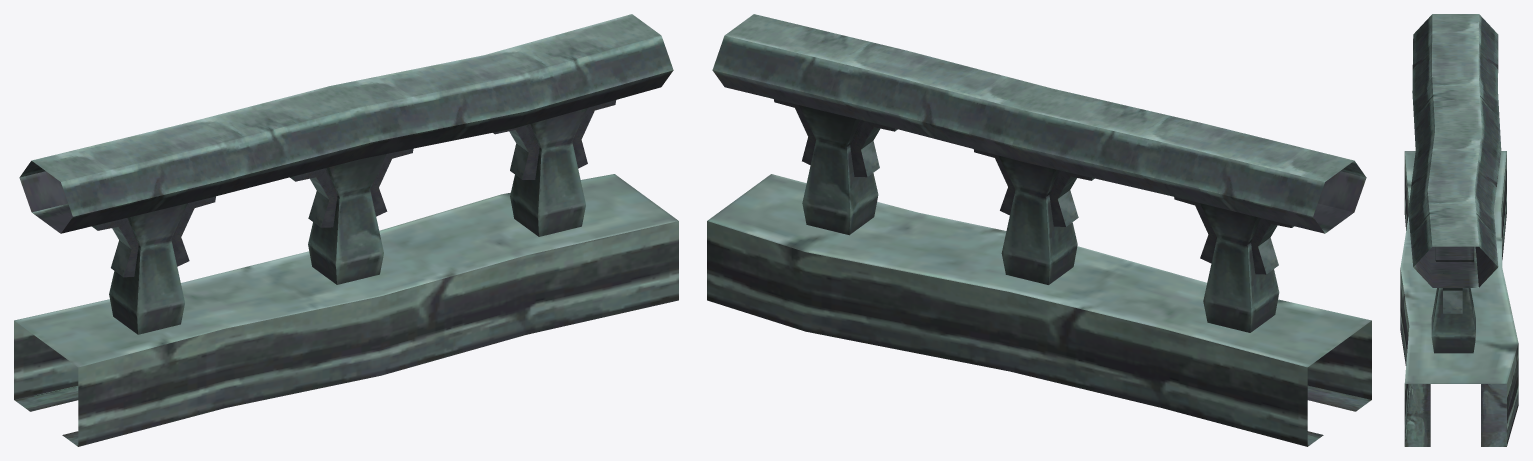
The model's file is crypt_railing_straight_01.fbx.
3 renders of one model, left to right at view 1: azimuth 30°, elevation 25°; view 2: azimuth 150°, elevation 25°; view 3: azimuth 270°, elevation 25°, orthographic. The views are drawn at different scales.
Parts seen in each view (by area): view 1: crypt_railing_straight_01-0; view 2: crypt_railing_straight_01-0; view 3: crypt_railing_straight_01-0.
Boxes of the visible parts, x1=… form: crypt_railing_straight_01-0: x1=14, y1=14, x2=678, y2=446; crypt_railing_straight_01-0: x1=707, y1=14, x2=1371, y2=446; crypt_railing_straight_01-0: x1=1400, y1=14, x2=1518, y2=446.
Bounding box in the file's own units: 4 × 1.6 × 0.8573.
